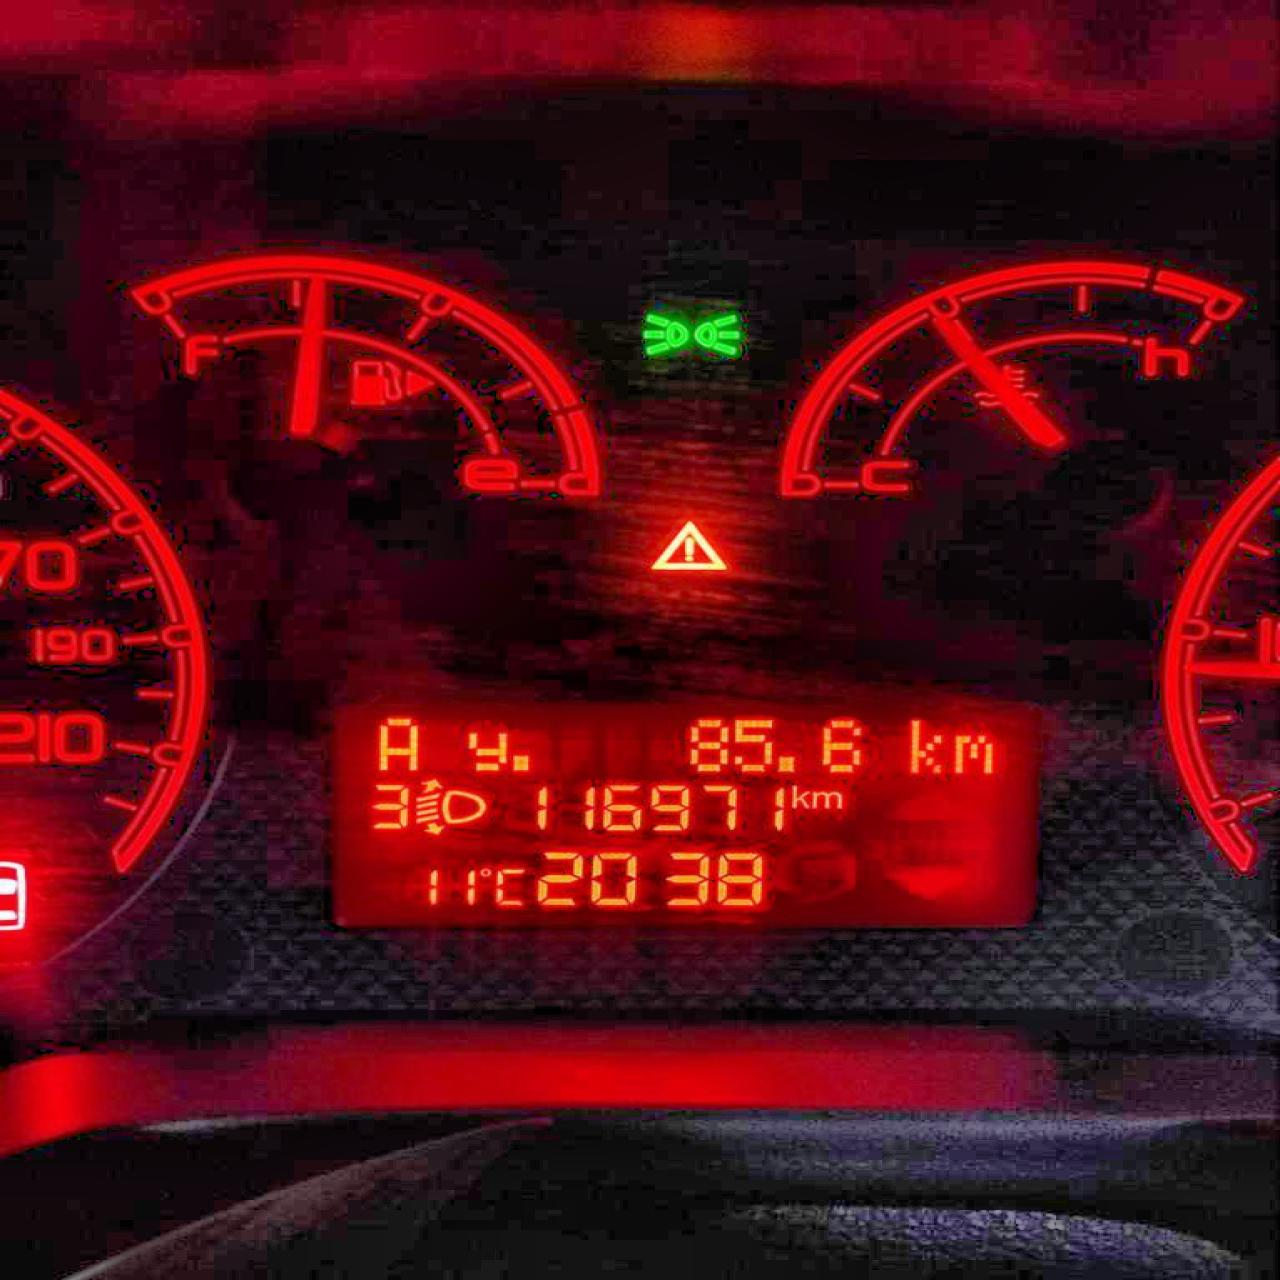-: (506, 753, 531, 774), (777, 753, 797, 775)
0: (585, 849, 640, 907)
1: (526, 779, 558, 832), (763, 784, 789, 835), (416, 865, 445, 906), (574, 781, 598, 831), (456, 866, 475, 906)
2: (531, 846, 580, 907)
3: (659, 847, 708, 907), (365, 777, 411, 832)
5: (730, 715, 777, 775)
6: (817, 715, 866, 776), (600, 779, 642, 832)
7: (697, 779, 742, 831)
8: (712, 849, 767, 907), (683, 716, 730, 774)
9: (645, 779, 690, 835)
X: (374, 715, 421, 772), (903, 715, 944, 776), (947, 731, 1001, 775), (459, 728, 509, 772), (493, 865, 525, 907), (811, 789, 843, 809), (788, 779, 809, 809)
odometer: (321, 693, 1051, 935)
